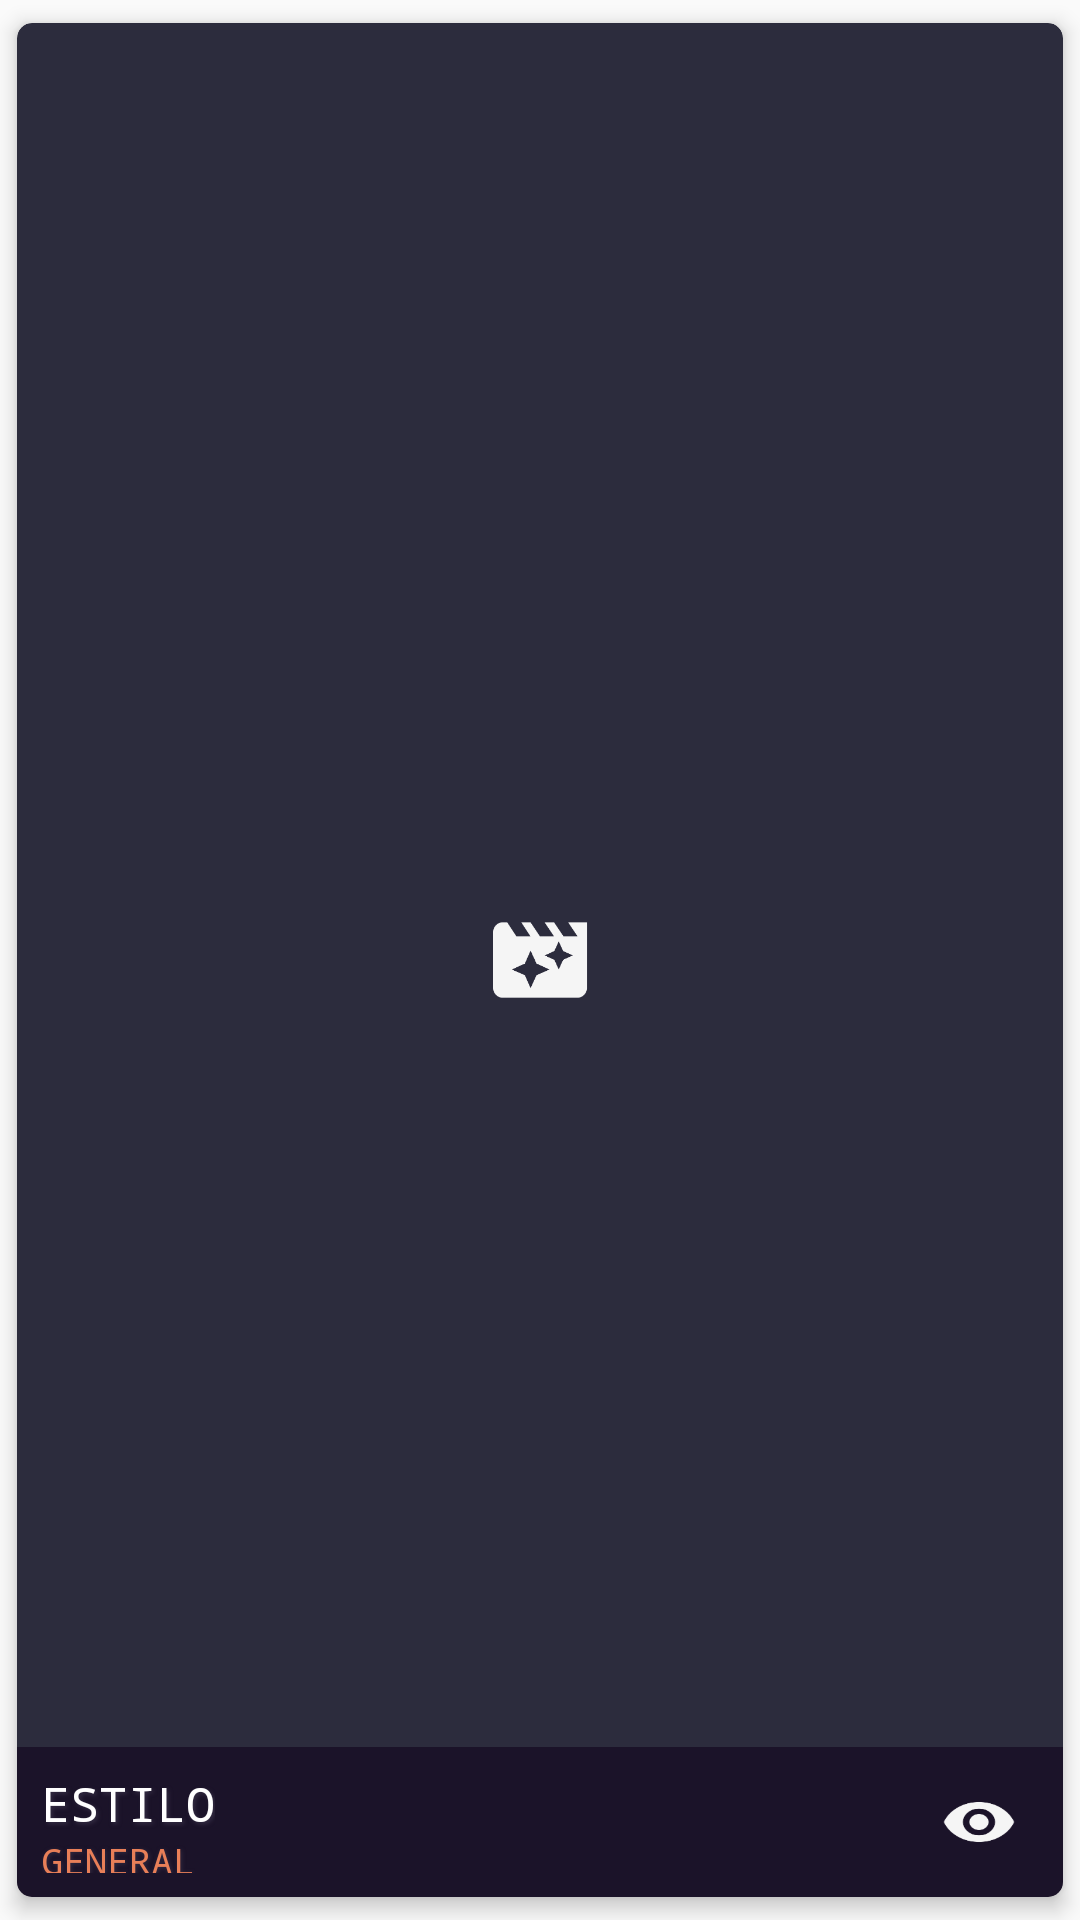

Named icons in this screenshot (1080 × 1920) and their bounding boxes, Rect(x1, y1, x2, y2):
eye: Rect(944, 1802, 1014, 1842)
movie filter: Rect(493, 922, 587, 998)
